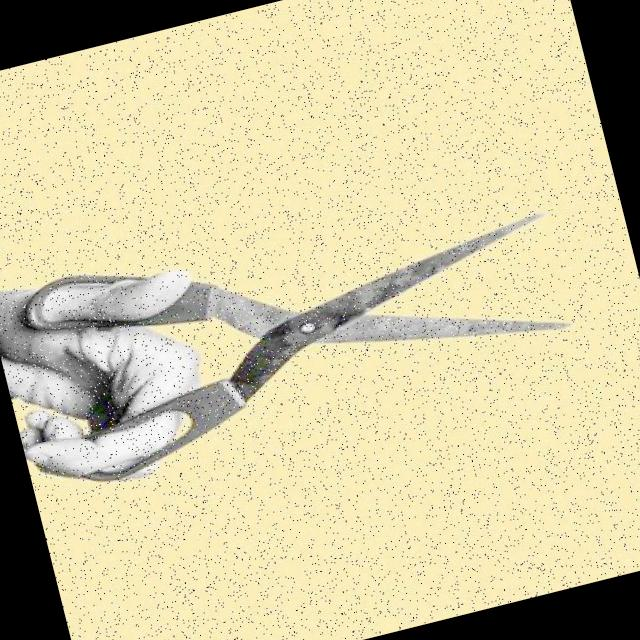scissors: (14, 153, 586, 496)
